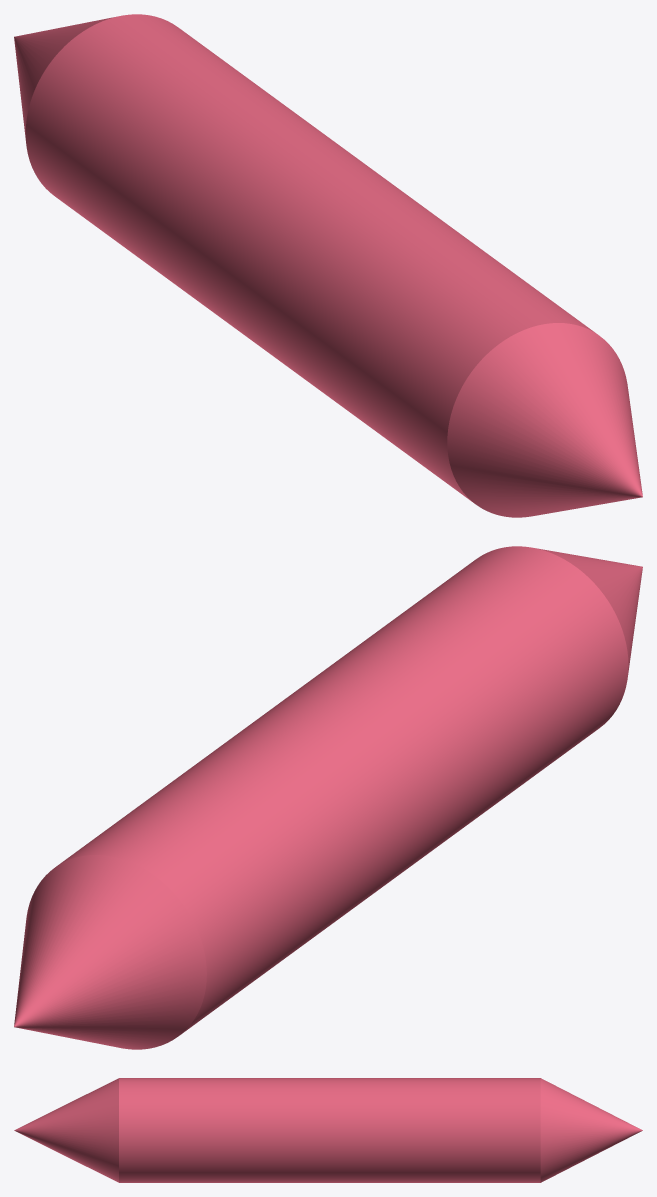
3 renders of one model, top to bottom at view 1: azimuth 30°, elevation 25°; view 2: azimuth 150°, elevation 25°; view 3: azimuth 270°, elevation 25°, orthographic. The views are drawn at different scales.
Visible parts, largest first — view 1: Circle.001; view 2: Circle.001; view 3: Circle.001.
Boxes of the visible parts, left/top/right/bottom form: Circle.001: left=14, top=14, right=642, bottom=517; Circle.001: left=14, top=546, right=642, bottom=1049; Circle.001: left=14, top=1078, right=642, bottom=1182.
Size of the model in its own units: 200 by 200 by 1201.
